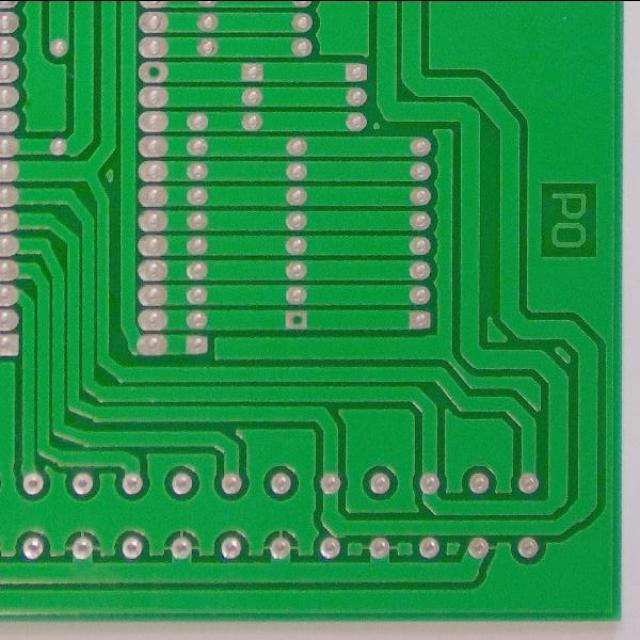Missing_Hole: (136, 59, 170, 84), (282, 307, 310, 332)
